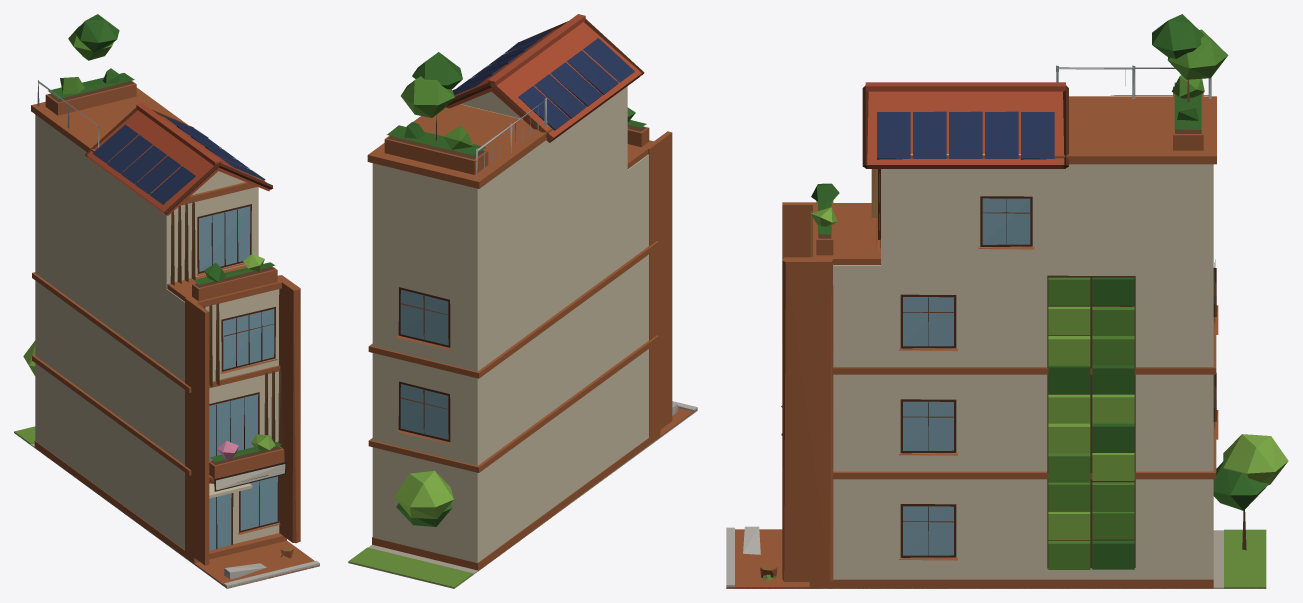
Rendered from bay2_right.glb.
3 renders of one model, left to right at view 1: azimuth 30°, elevation 25°; view 2: azimuth 150°, elevation 25°; view 3: azimuth 270°, elevation 25°, orthographic. The views are drawn at different scales.
Visible parts, largest first — view 1: body; view 2: body; view 3: body.
Boxes of the visible parts, bbox=[...] form: body: bbox=[14, 14, 319, 588]; body: bbox=[348, 14, 697, 588]; body: bbox=[726, 14, 1288, 588].
Size of the model in its own units: 4.7 by 17.9 by 16.56.
